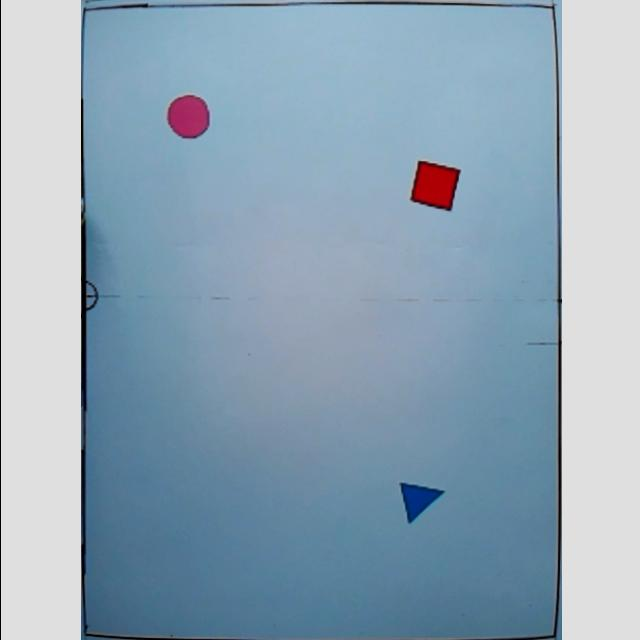blueTriangle: (394, 481, 444, 525)
pinkCircle: (162, 92, 210, 140)
redSquare: (406, 160, 458, 212)
